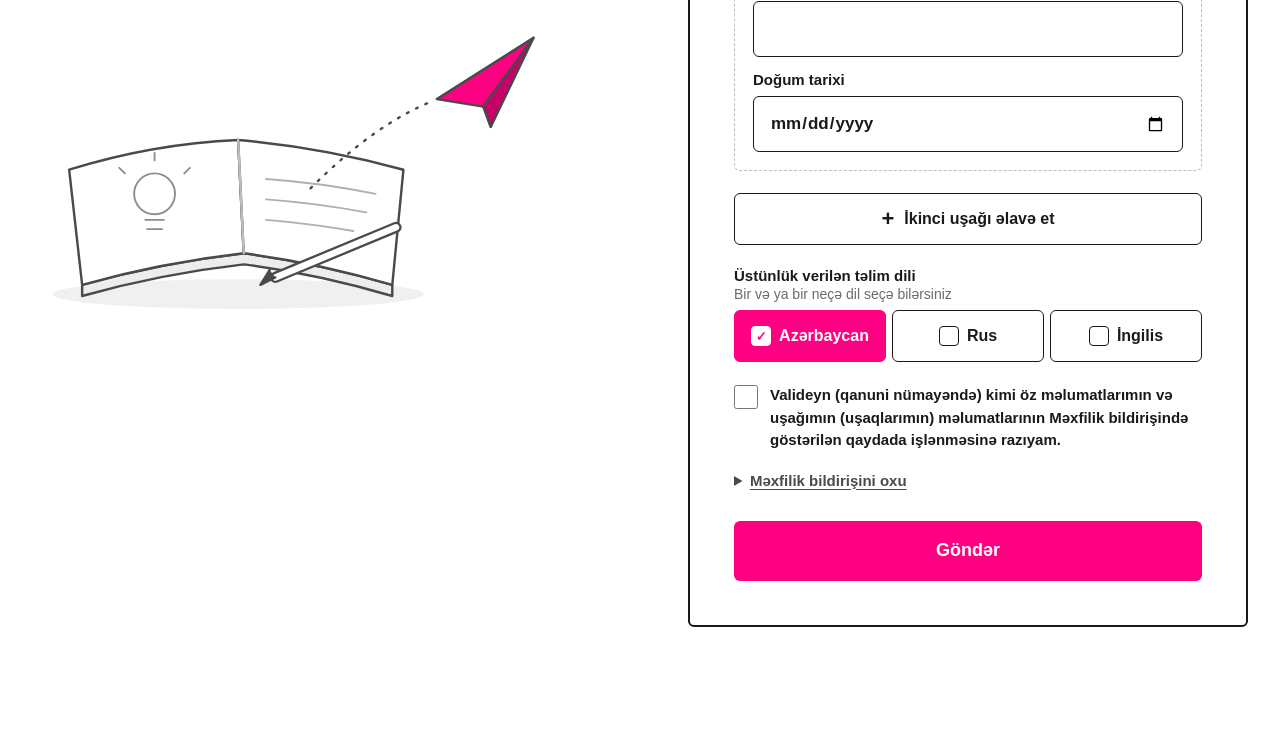
Apply form › consent and privacy notice (SEC-F-16) › clears the consent error as soon as consent is given
The width and height of the screenshot is (1280, 747).
(page scrolled)
Click the button "Göndər" at (968, 550), box [734,520,1202,580]
(page scrolled)
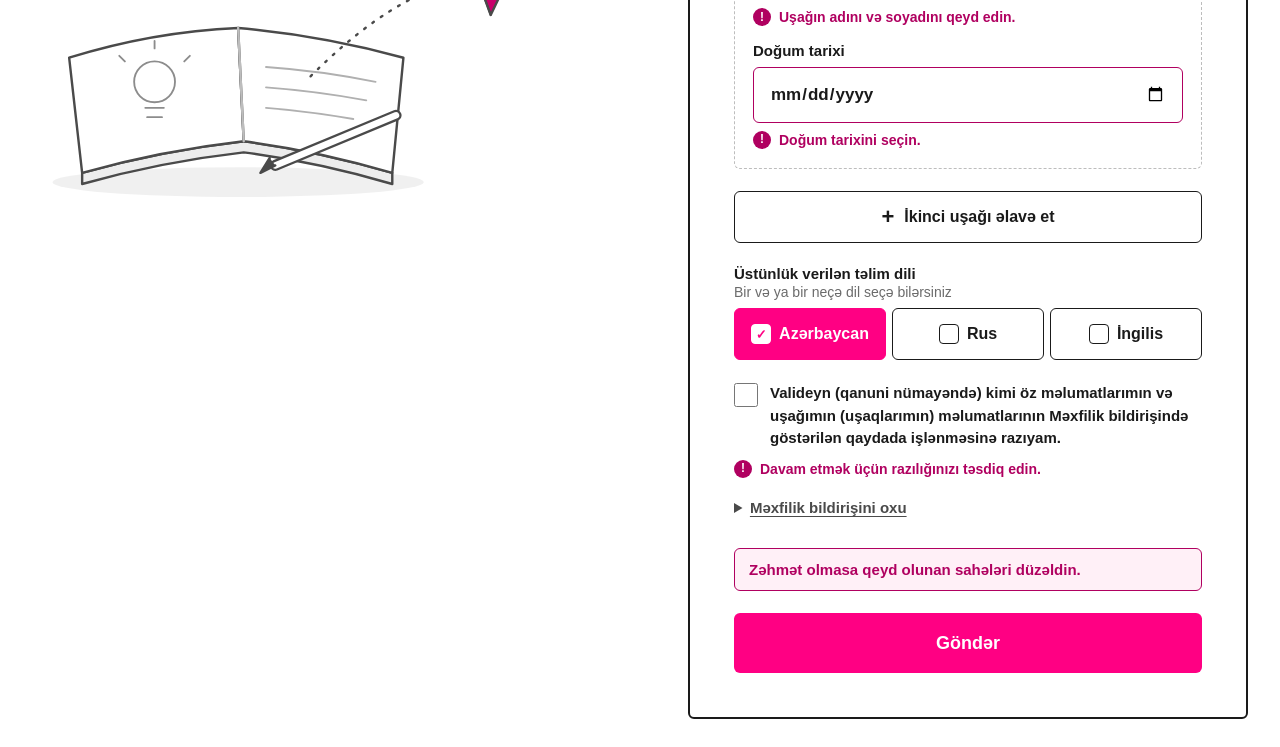
Check: the text "Davam etmək üçün razılığınızı təsdiq edin." is shown, box [760,461,1041,477]
Click the checkbox named "razıyam" at (746, 395), box [734,383,758,407]
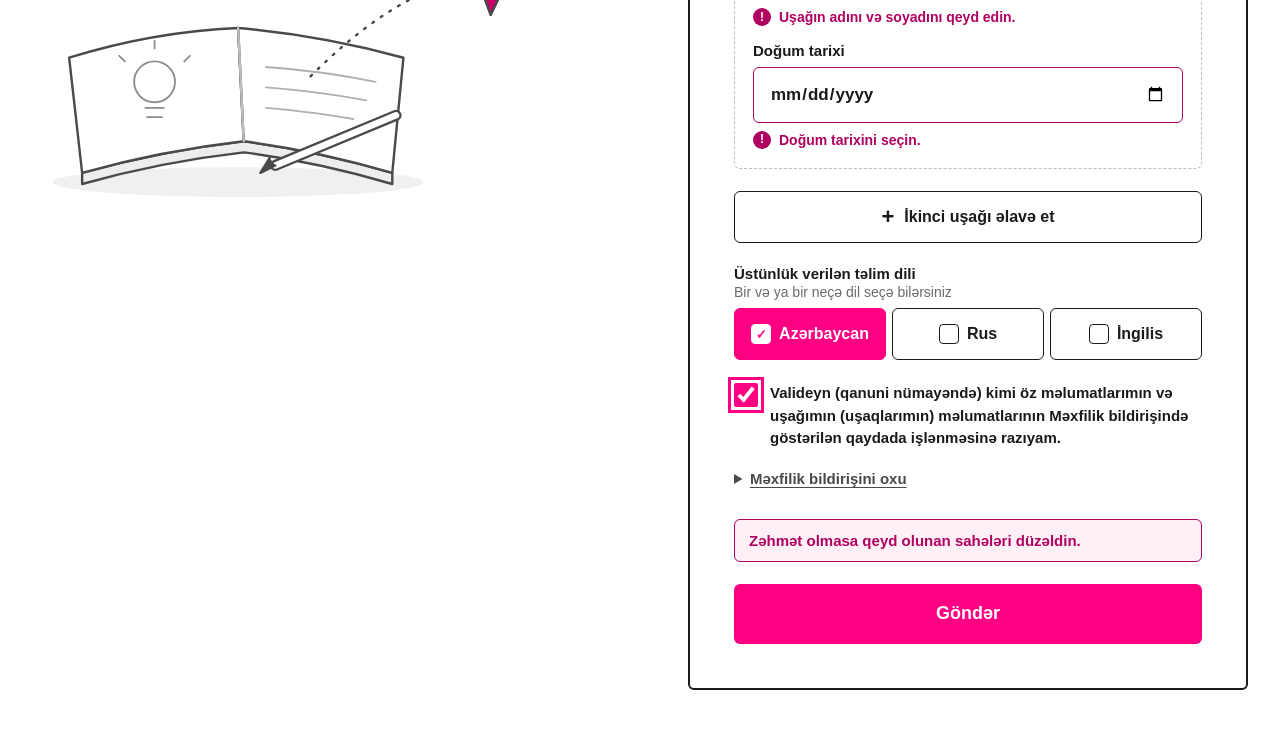
Check: the checkbox named "razıyam" is checked, box [734,383,758,407]
Check: the text "Davam etmək üçün razılığınızı təsdiq edin." is gone
